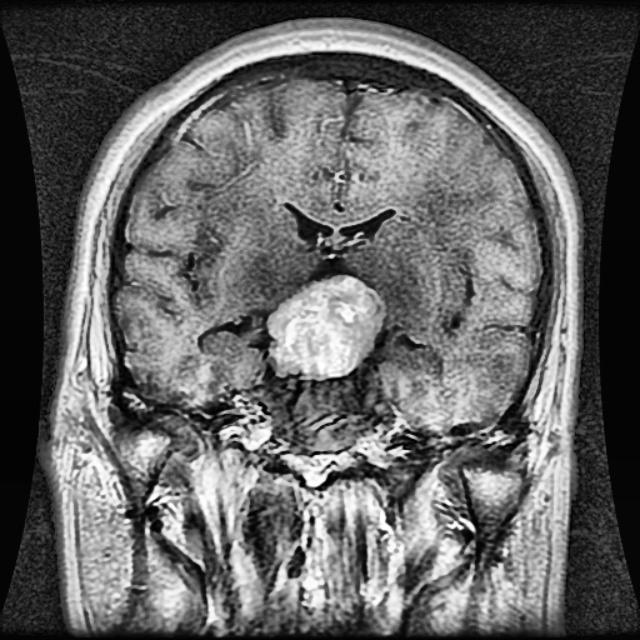Pituitary: (269, 272, 388, 374)
